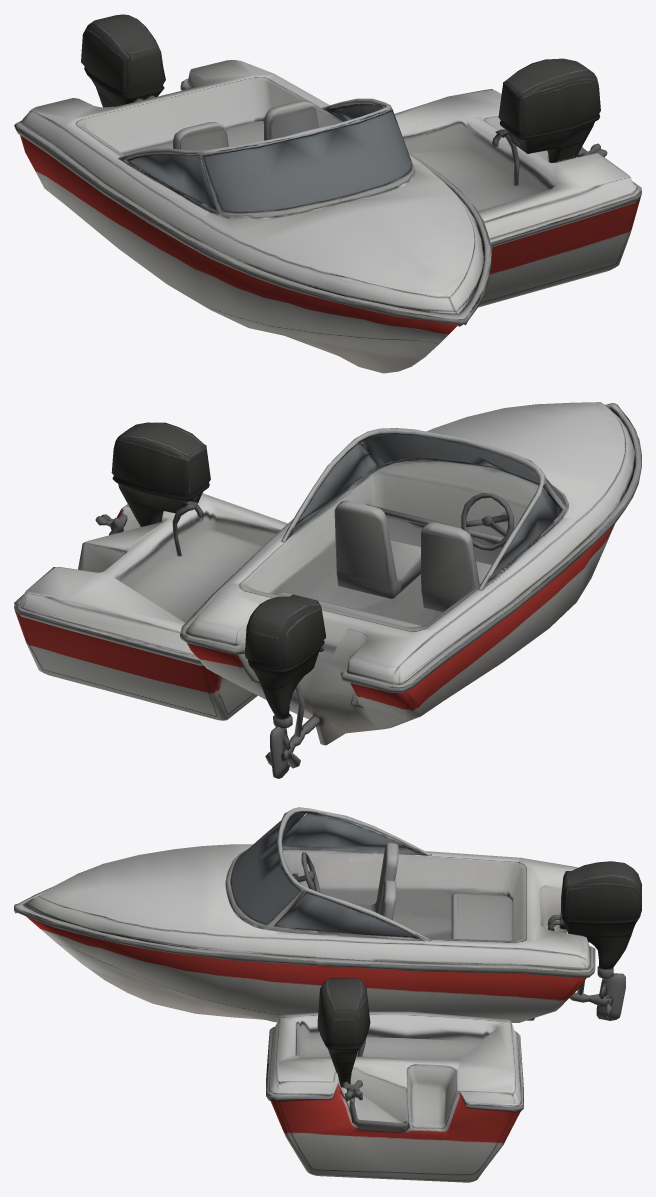
The model's file is original_glb.glb.
3 views of the same model, one above another, from view 1: azimuth 30°, elevation 25°; view 2: azimuth 150°, elevation 25°; view 3: azimuth 270°, elevation 25° (orthographic). The views are drawn at different scales.
Parts seen in each view (by area): view 1: Red Stripe Speedboat; view 2: Red Stripe Speedboat; view 3: Red Stripe Speedboat.
Part boxes in pixels (x1,y1,x2,y2): Red Stripe Speedboat: [14, 14, 641, 373]; Red Stripe Speedboat: [14, 402, 641, 778]; Red Stripe Speedboat: [14, 807, 641, 1182].
Bounding box in the file's own units: 0.7402 × 0.373 × 0.998.
1 material, 1 textured.
